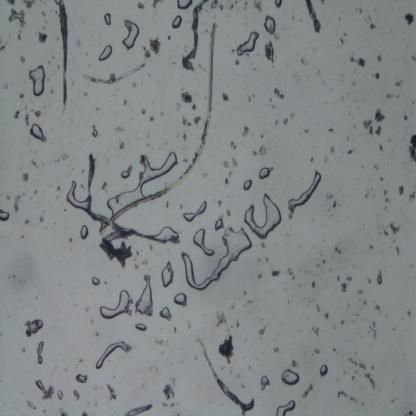Air bubble: (87, 152, 180, 245), (182, 226, 253, 292), (106, 152, 179, 209), (243, 196, 282, 241), (286, 172, 322, 215), (99, 288, 133, 318), (97, 339, 129, 370), (134, 274, 153, 315), (67, 180, 89, 212), (193, 228, 216, 257), (121, 17, 140, 50), (237, 31, 260, 56), (182, 201, 208, 222), (29, 66, 46, 96), (160, 260, 175, 289), (155, 227, 180, 241), (276, 400, 296, 416), (282, 369, 300, 386), (263, 13, 276, 36), (30, 124, 46, 142), (99, 44, 113, 63), (36, 341, 45, 364), (120, 166, 134, 180), (174, 292, 187, 306), (259, 374, 270, 390), (0, 207, 10, 224), (35, 380, 47, 394), (258, 166, 270, 180), (79, 224, 89, 240), (159, 308, 172, 320), (242, 178, 253, 192), (318, 363, 328, 377), (171, 16, 182, 28), (214, 219, 225, 231), (91, 274, 101, 286), (134, 323, 147, 332), (75, 374, 88, 383), (56, 388, 64, 402), (104, 12, 112, 25), (275, 0, 284, 10), (92, 127, 97, 138), (137, 3, 144, 10), (234, 58, 240, 66), (141, 109, 146, 115)
Background material: (99, 240, 133, 268), (217, 334, 235, 367), (22, 318, 45, 339), (9, 7, 27, 28), (407, 135, 416, 166), (349, 54, 366, 69), (363, 372, 377, 390), (242, 286, 254, 307), (161, 383, 175, 400), (336, 24, 347, 45), (264, 41, 274, 64), (216, 311, 228, 330), (40, 386, 55, 401), (152, 334, 168, 348), (387, 222, 403, 236), (179, 90, 193, 106), (364, 12, 376, 30), (150, 37, 162, 55), (349, 358, 367, 370), (106, 383, 117, 402), (325, 193, 338, 209), (12, 193, 22, 213), (363, 118, 374, 136), (27, 398, 38, 416), (223, 170, 235, 186), (403, 10, 415, 26), (367, 319, 377, 338), (176, 0, 195, 10), (162, 196, 175, 210), (273, 87, 286, 101), (302, 384, 314, 399), (374, 108, 386, 122), (350, 396, 366, 406), (37, 30, 48, 44), (244, 90, 255, 104), (376, 268, 384, 286), (180, 115, 191, 128), (210, 0, 224, 10), (406, 190, 416, 204), (240, 124, 250, 138), (259, 143, 268, 158), (258, 324, 269, 336), (337, 389, 348, 401), (151, 0, 164, 10), (374, 123, 383, 137), (72, 388, 81, 402), (191, 115, 202, 126), (339, 280, 347, 295), (141, 47, 151, 59), (229, 0, 239, 12), (23, 0, 36, 9), (287, 267, 295, 281), (252, 1, 262, 12), (300, 56, 309, 68), (270, 269, 282, 278), (314, 301, 322, 314), (310, 327, 320, 337), (394, 244, 401, 258), (395, 78, 403, 90), (230, 140, 238, 152), (221, 158, 230, 168), (58, 406, 68, 415), (24, 111, 30, 126), (38, 215, 46, 226), (22, 173, 30, 184), (290, 357, 298, 368), (30, 159, 38, 170), (398, 185, 405, 197), (6, 0, 18, 7), (222, 94, 231, 103), (230, 158, 238, 168), (62, 152, 70, 162), (310, 154, 318, 164), (364, 186, 370, 199), (384, 191, 390, 204), (13, 110, 20, 121), (334, 246, 342, 255), (34, 109, 42, 118), (21, 56, 28, 66), (366, 275, 372, 286), (182, 132, 188, 143), (118, 140, 124, 151), (314, 347, 322, 355), (18, 92, 26, 100), (327, 126, 335, 134), (345, 275, 354, 282), (323, 312, 330, 321), (114, 126, 124, 132), (311, 278, 316, 290), (161, 401, 169, 408), (191, 103, 198, 111), (347, 148, 354, 156), (17, 31, 22, 42), (403, 114, 409, 123), (374, 72, 380, 81), (362, 299, 368, 308), (374, 303, 380, 312), (290, 112, 295, 122), (303, 127, 311, 133), (217, 200, 223, 208), (171, 402, 179, 408), (357, 289, 365, 295), (330, 146, 336, 154), (80, 410, 88, 416), (282, 118, 288, 126), (100, 182, 106, 190), (0, 44, 6, 52), (378, 52, 382, 63), (369, 244, 375, 251), (148, 116, 154, 123), (332, 346, 338, 353), (226, 209, 232, 216), (256, 274, 263, 280), (273, 347, 280, 353), (408, 410, 414, 416), (386, 94, 393, 99), (379, 143, 383, 151)
Cellulose filter fibre: (195, 341, 254, 412), (180, 1, 210, 71), (57, 0, 70, 118), (83, 62, 145, 86), (305, 0, 321, 33), (124, 404, 152, 415)
Microfibre: (100, 23, 218, 237)
